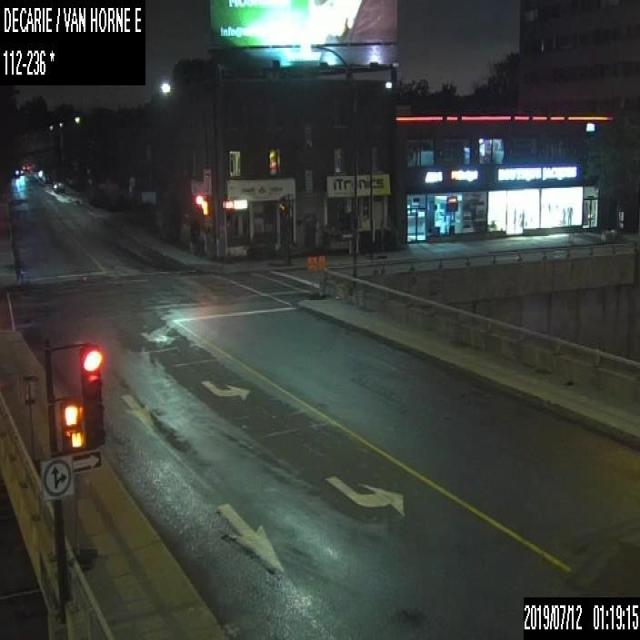construction: (67, 470, 98, 569), (20, 372, 41, 470), (316, 255, 327, 298), (306, 255, 316, 298)
